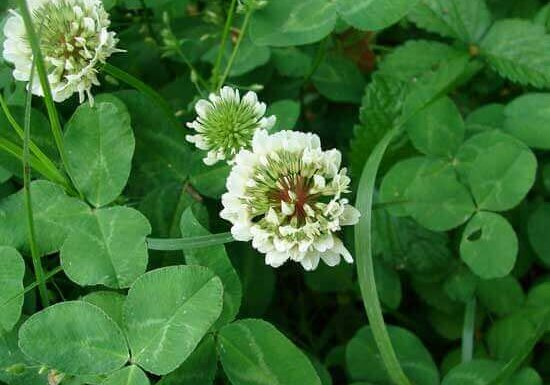clover: (4, 101, 154, 291), (401, 141, 537, 277)
clover blossom white: (219, 127, 356, 271), (3, 1, 125, 103), (185, 84, 276, 167)
